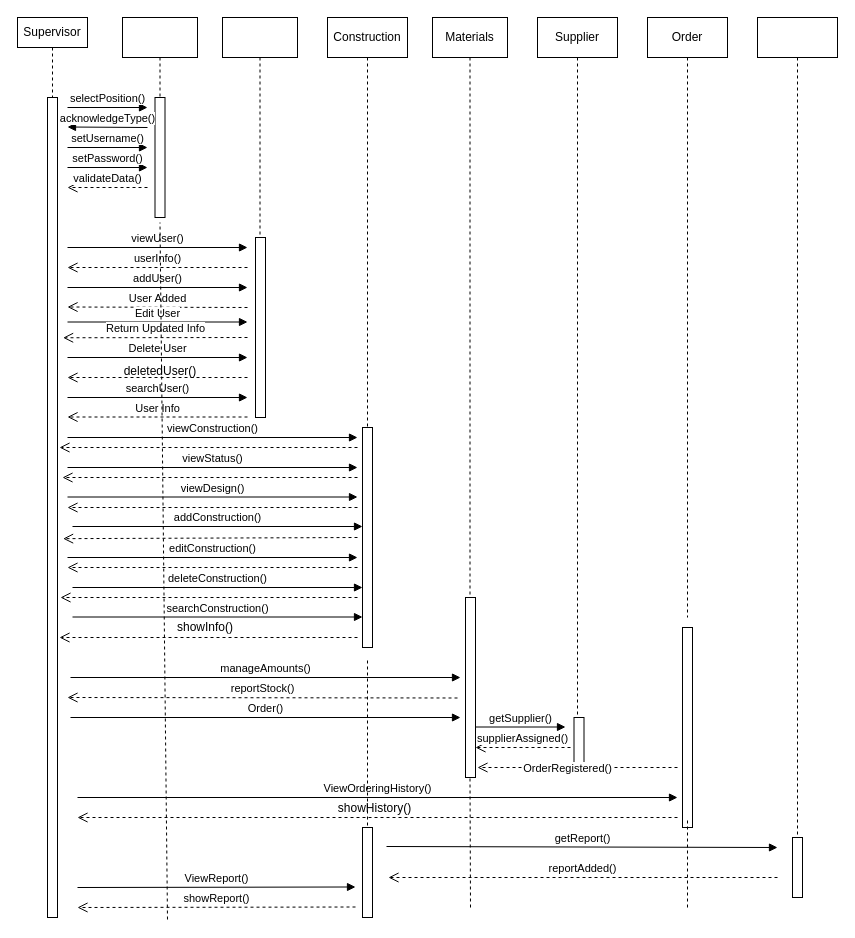
Image size: 855x938. Some labels were removed from this diagram. Each missing label, with the box of its shape:
Login: (122, 16, 198, 98)
Report: (756, 16, 838, 848)
Users: (222, 16, 298, 238)
